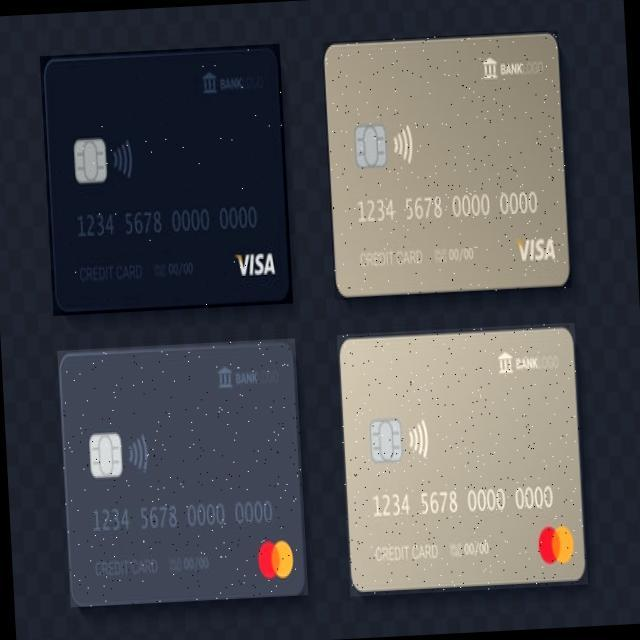payment_card: (57, 337, 308, 608), (337, 325, 587, 593), (323, 31, 570, 298), (46, 46, 291, 307)
